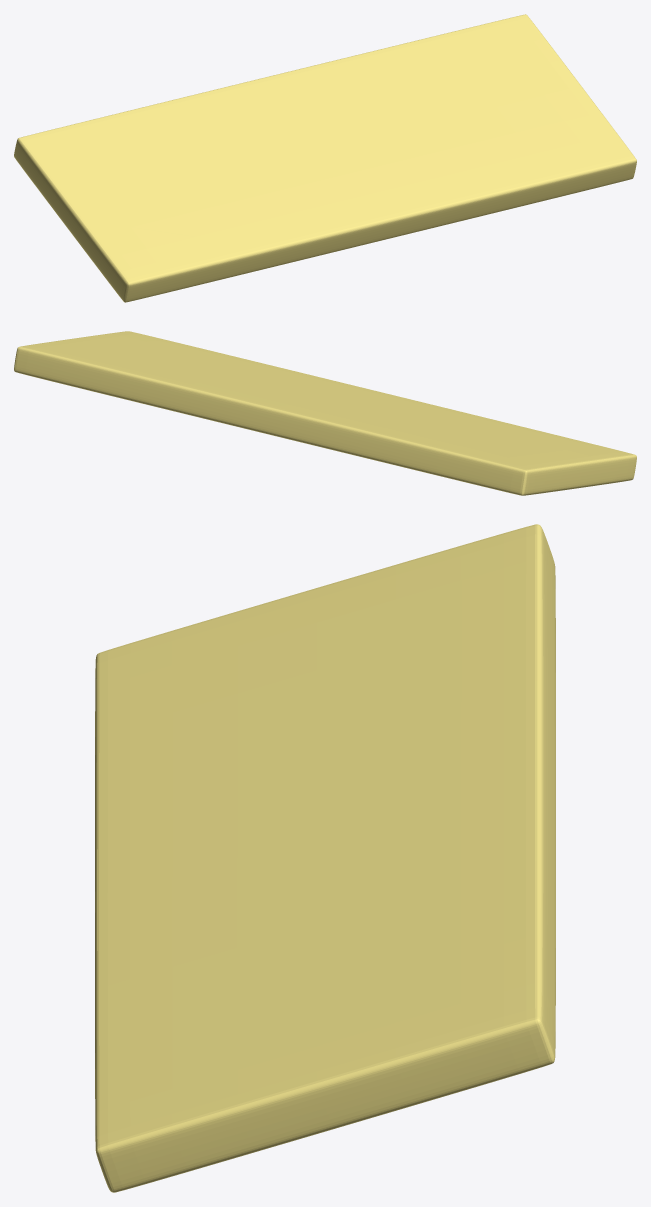
File: Toy_Ramp_Hi_000826.fbx
The picture shows the model from 3 angles, top to bottom: view 1: azimuth 30°, elevation 25°; view 2: azimuth 150°, elevation 25°; view 3: azimuth 270°, elevation 25°; orthographic projection. The views are drawn at different scales.
Visible parts, largest first — view 1: Cube; view 2: Cube; view 3: Cube.
Part boxes in pixels (x1,y1,x2,y2): Cube: (14, 14, 636, 302); Cube: (14, 331, 636, 495); Cube: (95, 524, 555, 1192).
Bounding box in the file's own units: 2.5 × 0.4099 × 0.9755.
